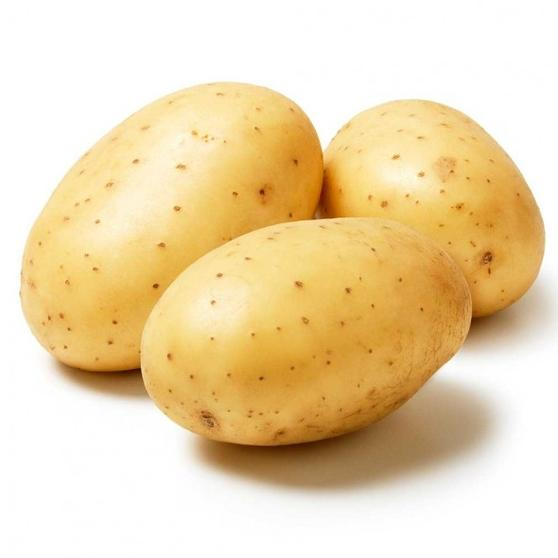potato: (23, 79, 327, 373), (139, 215, 474, 446), (320, 100, 544, 317)
